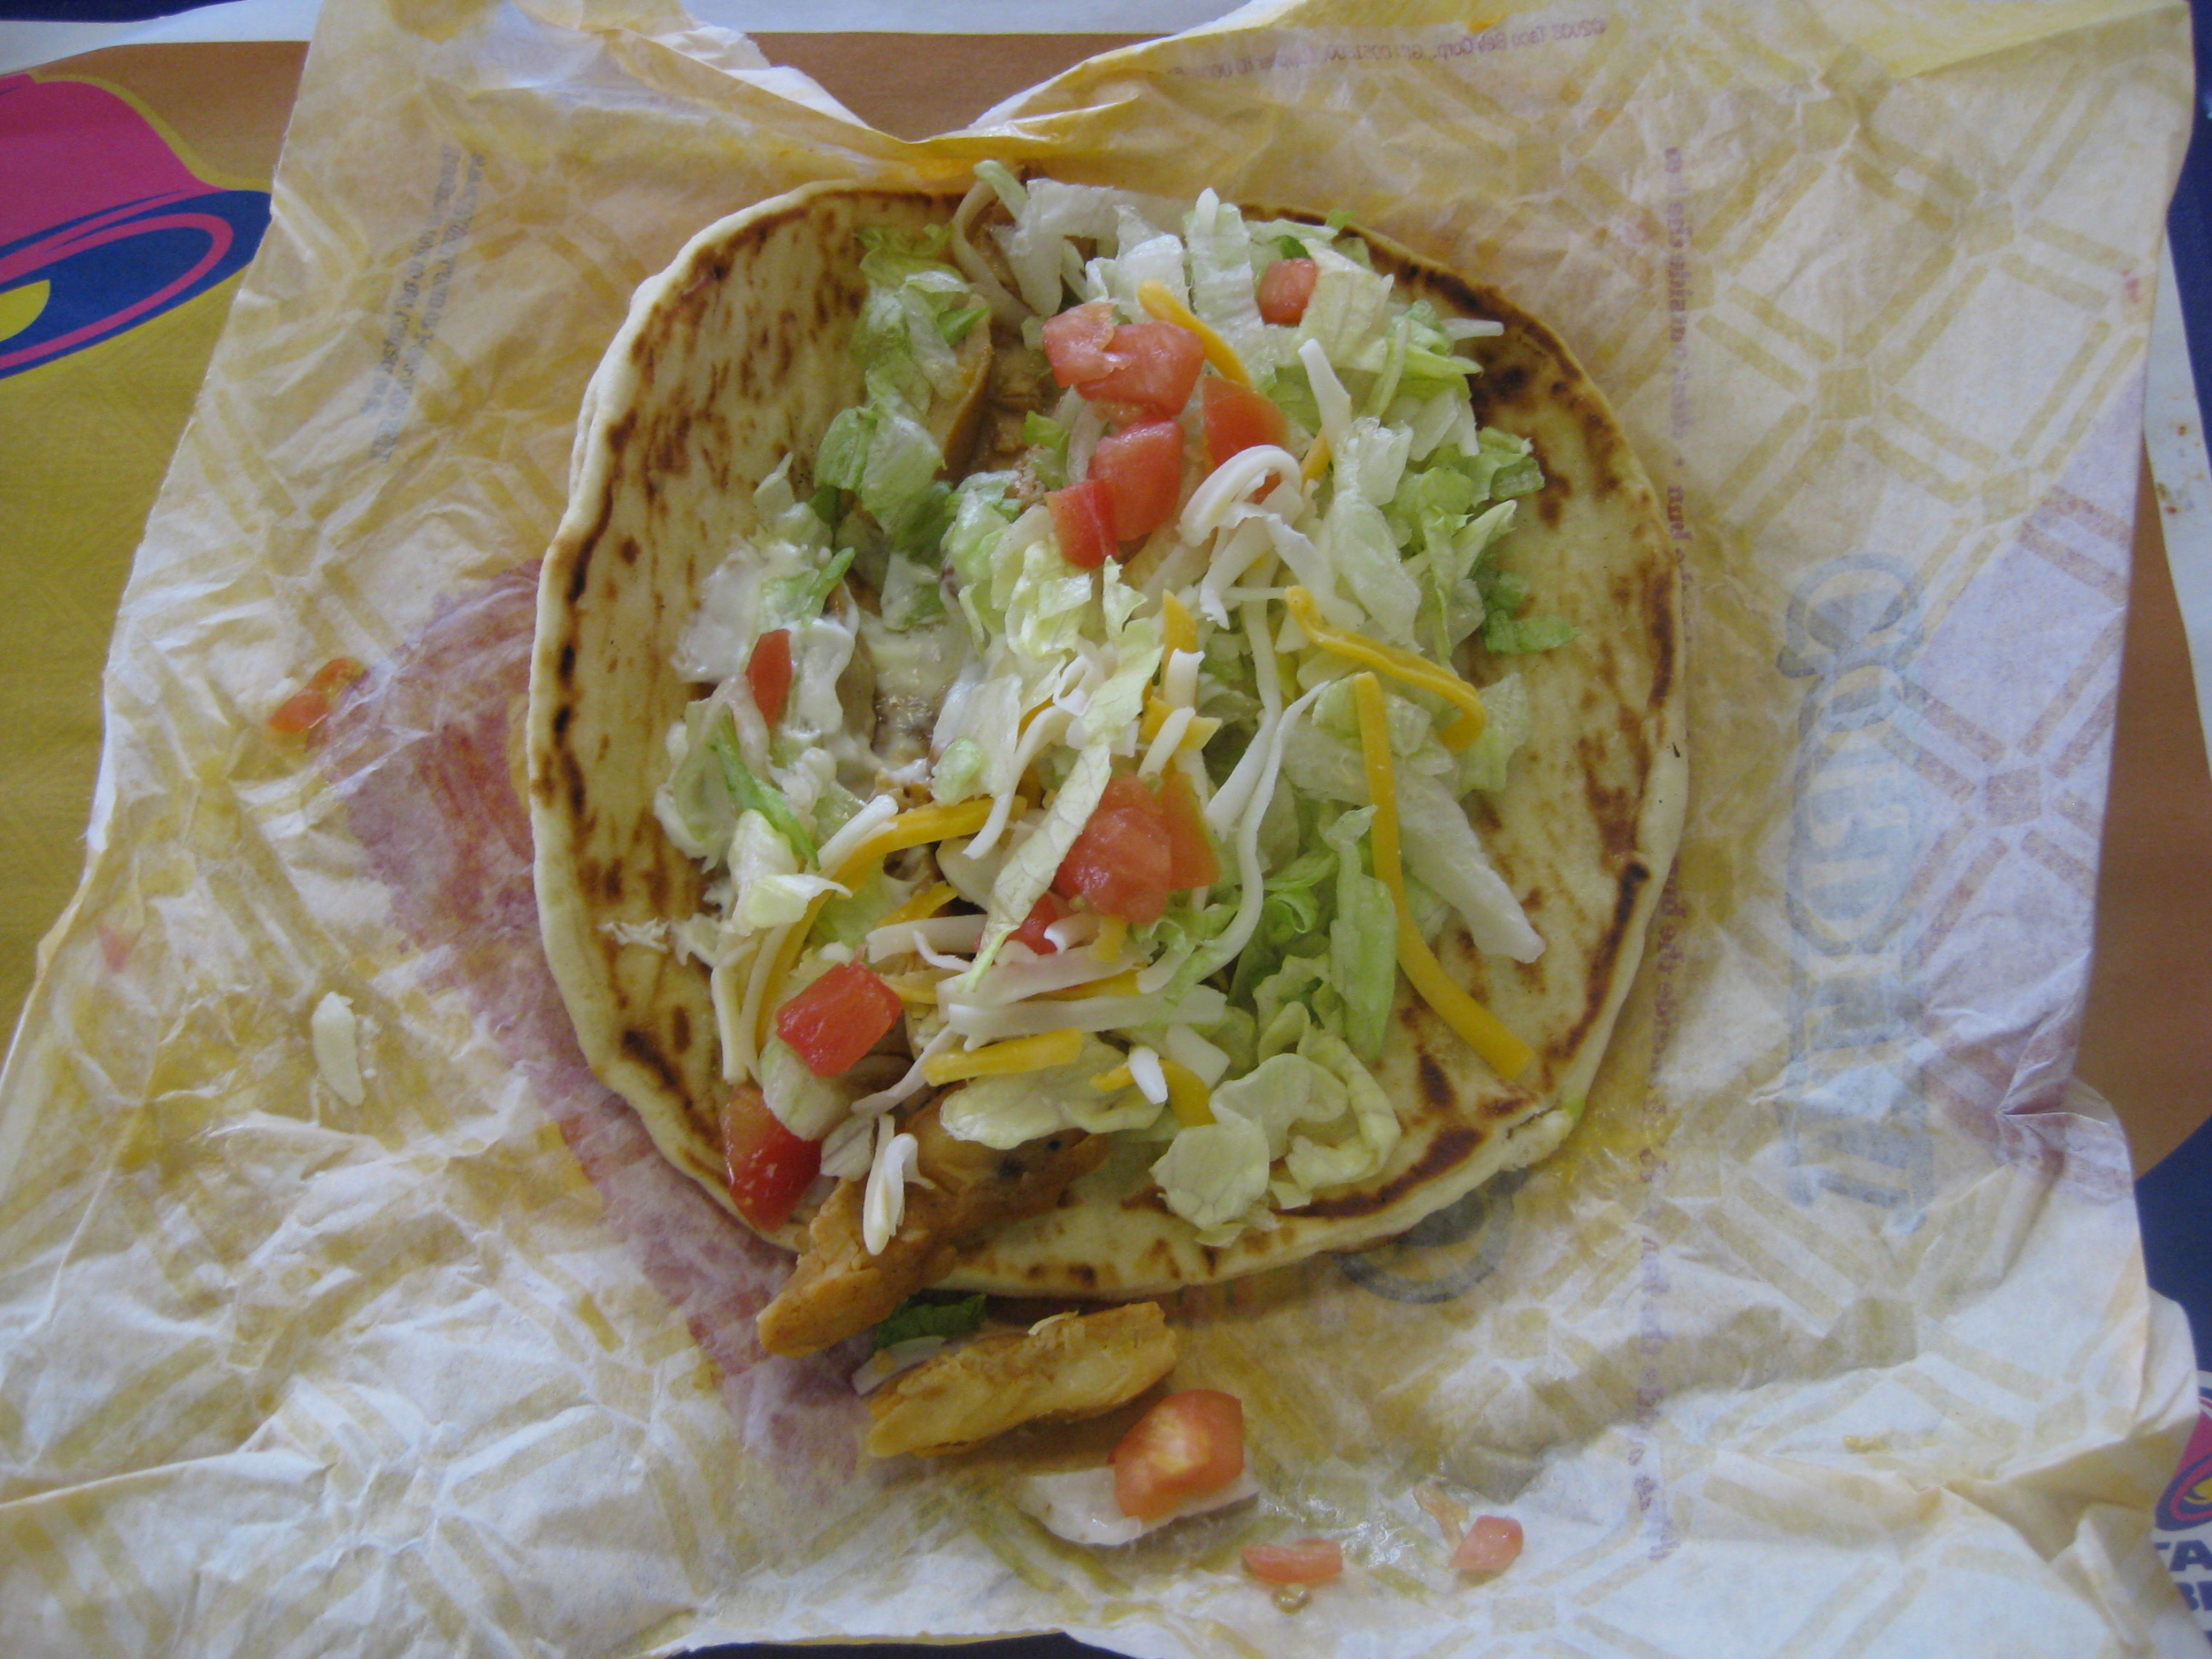taco: (498, 108, 1749, 1365)
